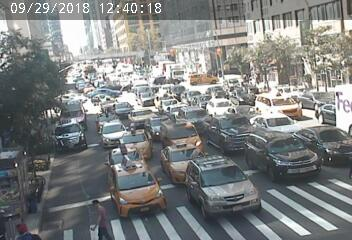car: (247, 133, 310, 175), (184, 160, 249, 200), (200, 113, 254, 148), (109, 168, 162, 203), (303, 126, 351, 162), (252, 88, 300, 117), (162, 146, 202, 175), (255, 113, 301, 137), (58, 126, 92, 152), (103, 147, 148, 164), (117, 132, 154, 149), (164, 123, 195, 142), (99, 121, 127, 142), (62, 101, 89, 122), (305, 87, 330, 108), (178, 106, 205, 123), (135, 89, 159, 108), (207, 99, 235, 114), (146, 117, 168, 136), (163, 64, 187, 81), (209, 82, 229, 100), (87, 89, 115, 100), (182, 88, 205, 101), (189, 75, 216, 86), (155, 93, 175, 105), (131, 108, 148, 121), (113, 102, 127, 116), (161, 101, 177, 111)
